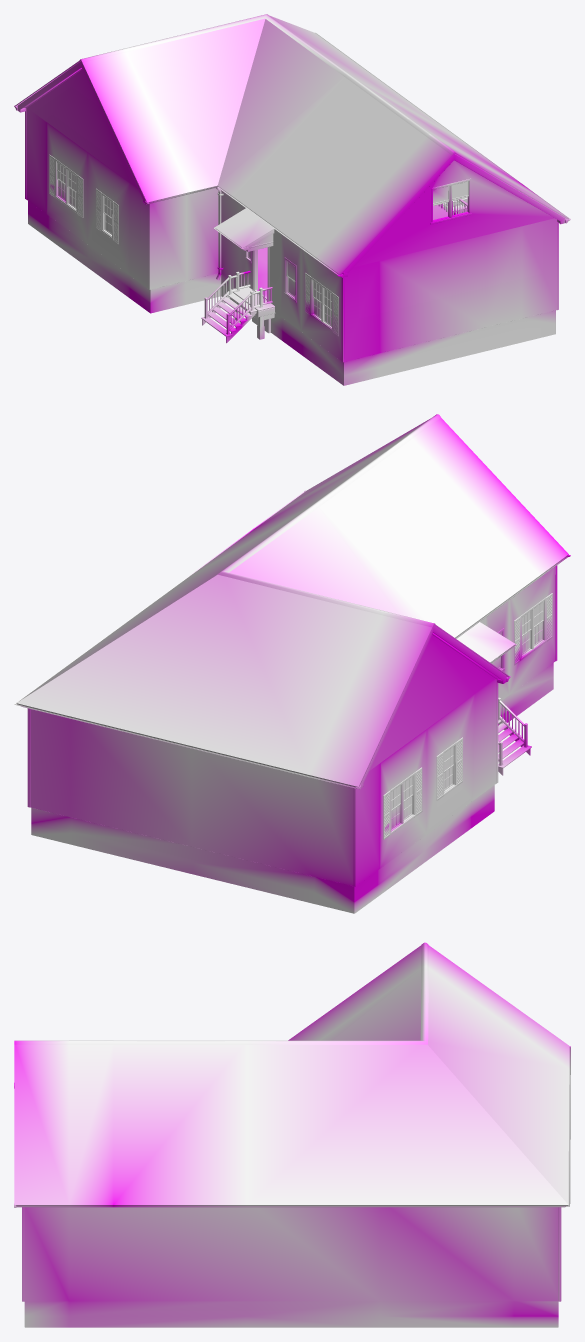
The model's file is SM_House_12.fbx.
3 views of the same model, one above another, from view 1: azimuth 30°, elevation 25°; view 2: azimuth 150°, elevation 25°; view 3: azimuth 270°, elevation 25° (orthographic). The views are drawn at different scales.
Visible parts, largest first — view 1: SM_House_12_LOD0; view 2: SM_House_12_LOD0; view 3: SM_House_12_LOD0.
Part boxes in pixels (left/top/right/bottom): SM_House_12_LOD0: left=14, top=14, right=570, bottom=385; SM_House_12_LOD0: left=14, top=414, right=570, bottom=913; SM_House_12_LOD0: left=14, top=942, right=570, bottom=1327.
Bounding box in the file's own units: 1194 × 800 × 1752.
